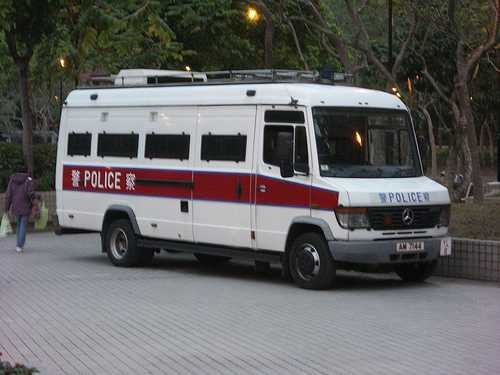Police Van: (52, 59, 483, 312)
